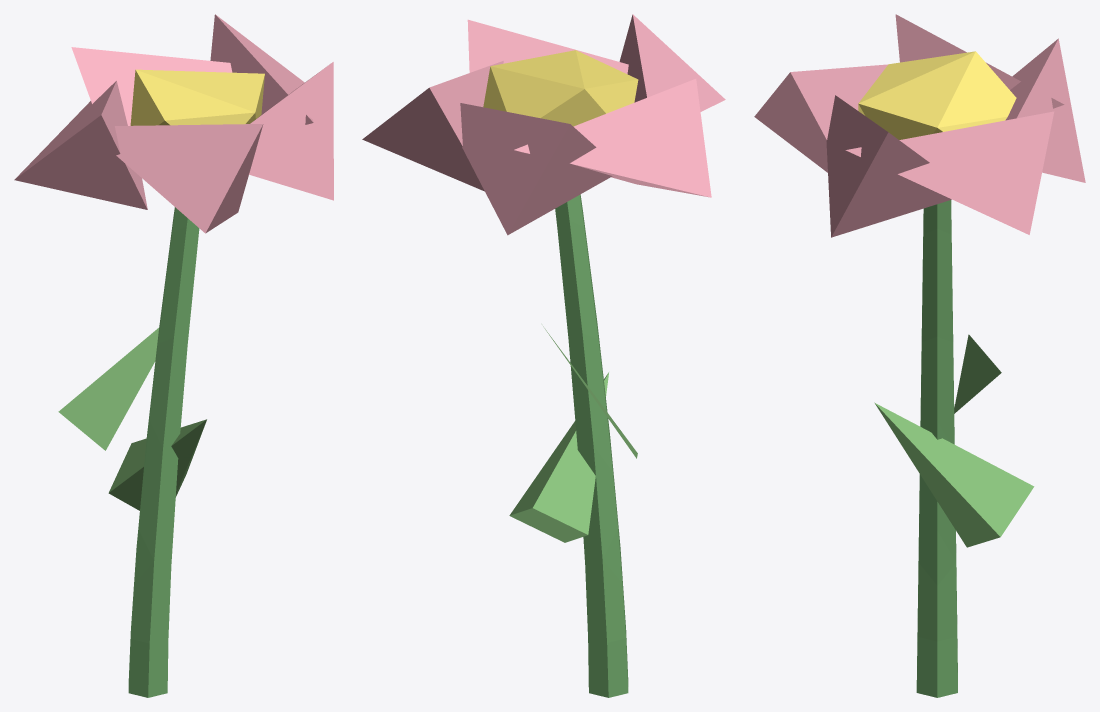
The model's file is 50-Vegetacion_flor_isla.glb.
The picture shows the model from 3 angles, left to right: view 1: azimuth 30°, elevation 25°; view 2: azimuth 150°, elevation 25°; view 3: azimuth 270°, elevation 25°; orthographic projection. The views are drawn at different scales.
Visible parts, largest first — view 1: SM_Tallo_M_Petalo_Flor, SM_Tallo_M_Tallo_Flor, SM_Tallo_M_Hoja_Flor, SM_Tallo_M_Centro_Flor; view 2: SM_Tallo_M_Petalo_Flor, SM_Tallo_M_Tallo_Flor, SM_Tallo_M_Centro_Flor, SM_Tallo_M_Hoja_Flor; view 3: SM_Tallo_M_Petalo_Flor, SM_Tallo_M_Tallo_Flor, SM_Tallo_M_Hoja_Flor, SM_Tallo_M_Centro_Flor.
Part boxes in pixels (x1,y1,x2,y2): SM_Tallo_M_Petalo_Flor: (14, 14, 333, 233); SM_Tallo_M_Tallo_Flor: (128, 207, 199, 697); SM_Tallo_M_Hoja_Flor: (58, 328, 206, 510); SM_Tallo_M_Centro_Flor: (130, 69, 264, 125); SM_Tallo_M_Petalo_Flor: (362, 14, 725, 235); SM_Tallo_M_Tallo_Flor: (555, 194, 628, 697); SM_Tallo_M_Centro_Flor: (483, 50, 638, 126); SM_Tallo_M_Hoja_Flor: (509, 326, 637, 542); SM_Tallo_M_Petalo_Flor: (754, 14, 1085, 237); SM_Tallo_M_Tallo_Flor: (916, 200, 957, 697); SM_Tallo_M_Hoja_Flor: (874, 334, 1034, 547); SM_Tallo_M_Centro_Flor: (858, 51, 1016, 139).
Size of the model in its own units: 0.6516 by 1.18 by 0.556.
